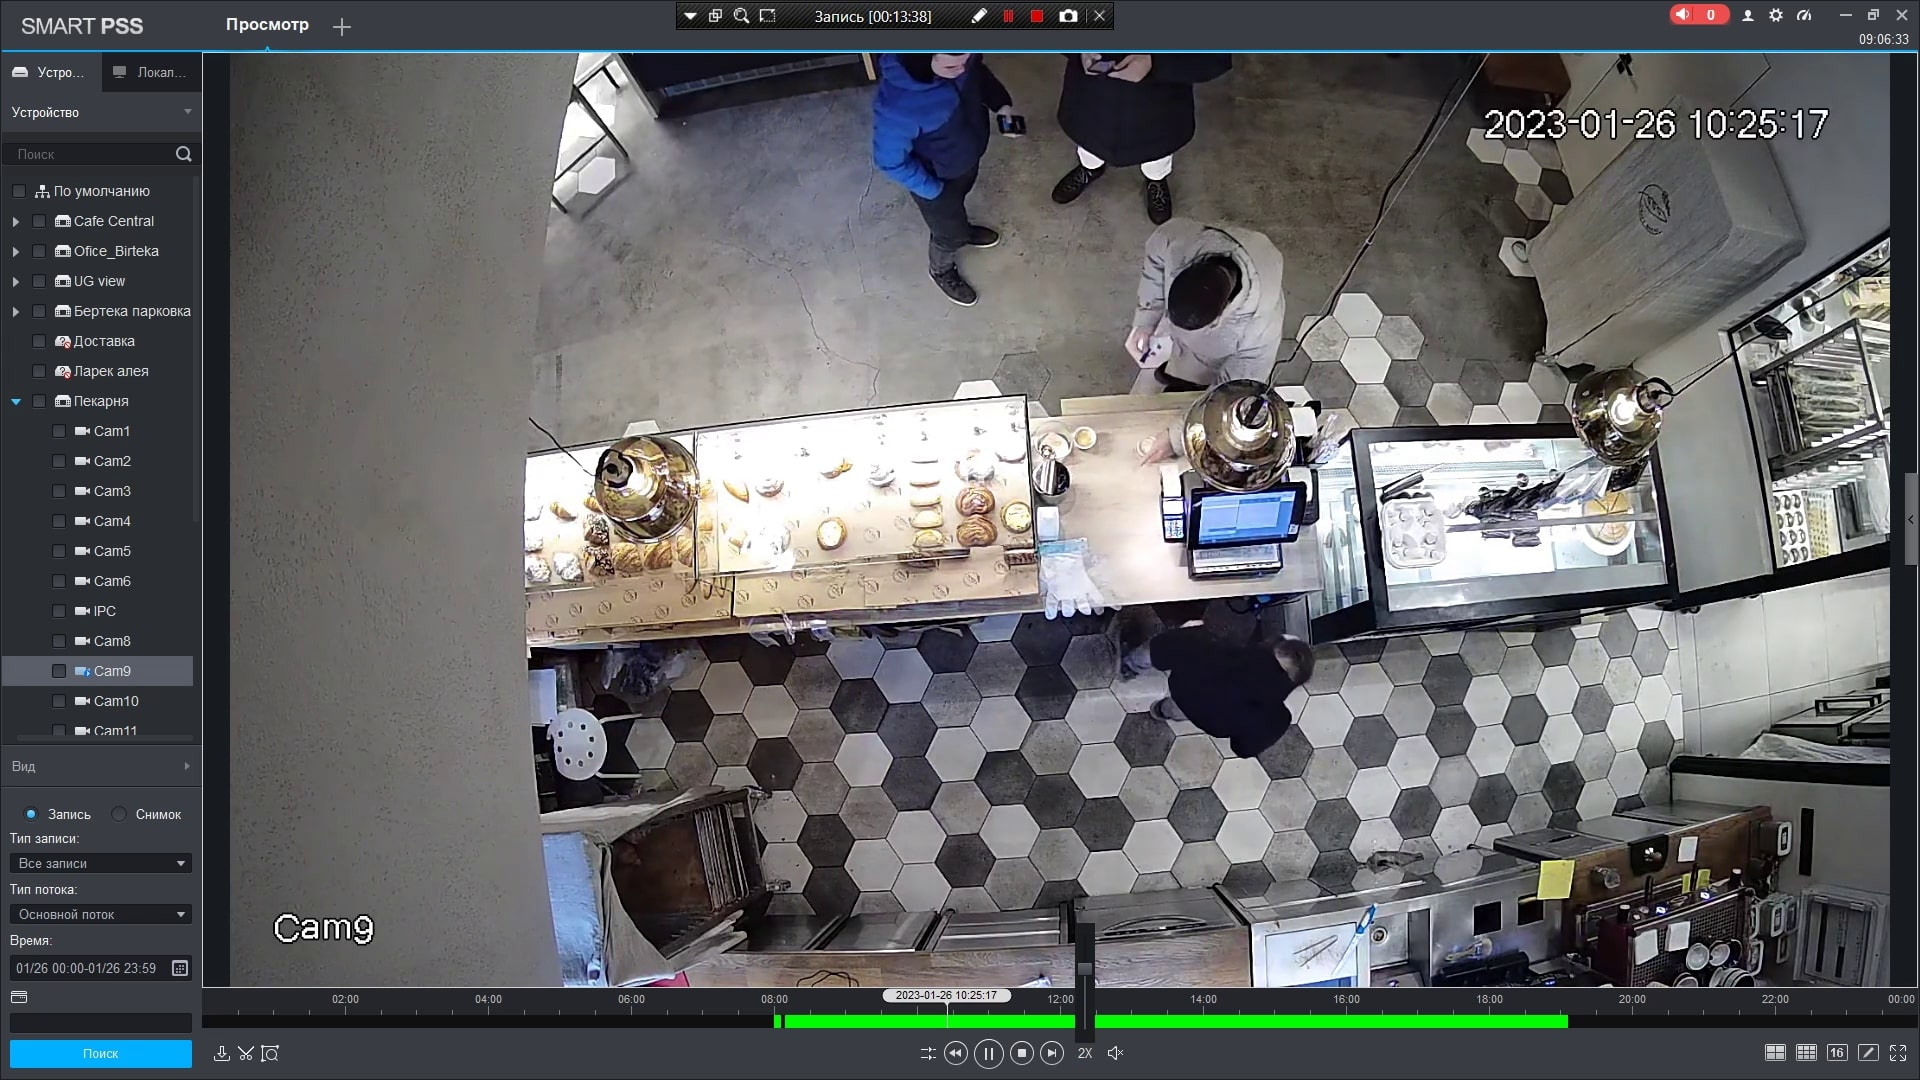barcounter: (549, 421, 1678, 653)
coffee: (1132, 438, 1171, 463), (1069, 424, 1100, 453)
person: (854, 48, 1027, 321), (1117, 211, 1303, 387), (1158, 599, 1326, 762)
